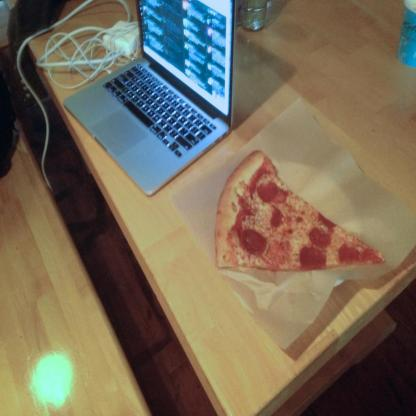board: (60, 0, 236, 192)
